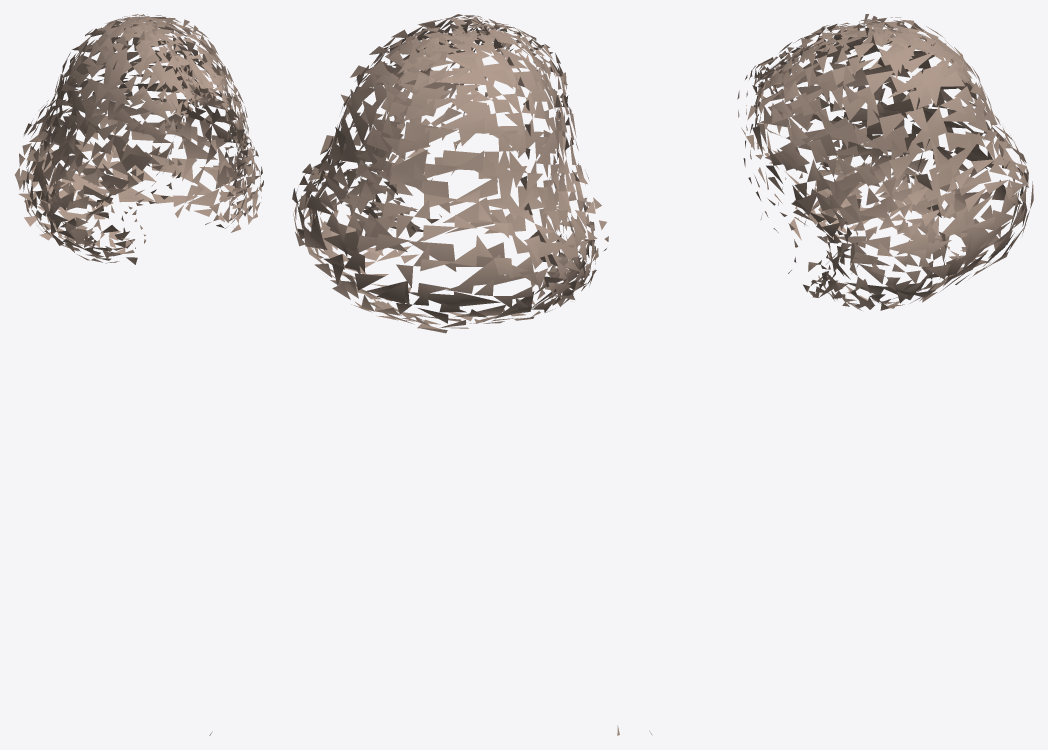
The model's file is female_hair_11_lod1.glb.
3 views of the same model, side by side, from view 1: azimuth 30°, elevation 25°; view 2: azimuth 150°, elevation 25°; view 3: azimuth 270°, elevation 25° (orthographic). The views are drawn at different scales.
Parts seen in each view (by area): view 1: female-hair-11; view 2: female-hair-11; view 3: female-hair-11.
Boxes of the visible parts, bbox=[...] form: female-hair-11: bbox=[15, 14, 263, 735]; female-hair-11: bbox=[292, 14, 619, 735]; female-hair-11: bbox=[649, 14, 1033, 735].
Size of the model in its own units: 0.2548 by 0.6889 by 0.329.
